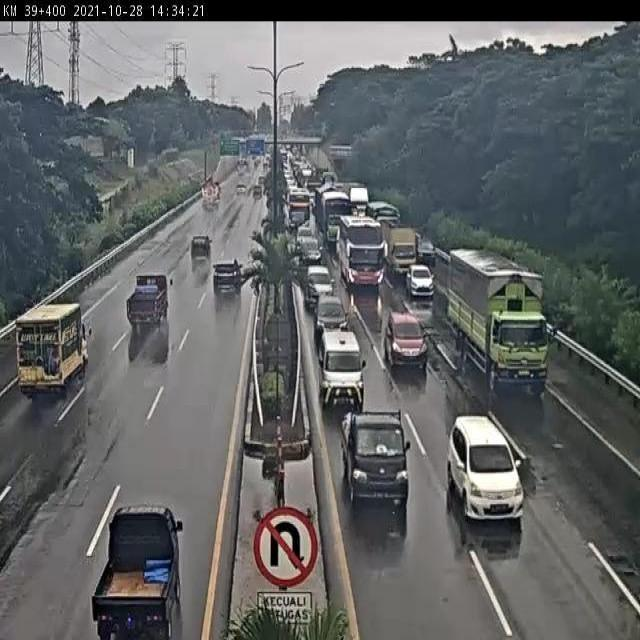big bus: (340, 215, 383, 284), (320, 190, 353, 242), (283, 195, 311, 236)
car: (91, 508, 184, 640), (440, 415, 527, 520), (335, 410, 411, 510), (317, 327, 364, 402), (383, 308, 427, 365), (210, 260, 244, 304), (317, 292, 344, 337), (403, 260, 432, 299), (305, 260, 332, 301), (187, 236, 211, 265), (297, 238, 318, 266), (292, 220, 309, 240)
small truck: (15, 305, 96, 400), (126, 269, 172, 336), (383, 220, 419, 276)
truck-l-: (449, 253, 558, 392)
